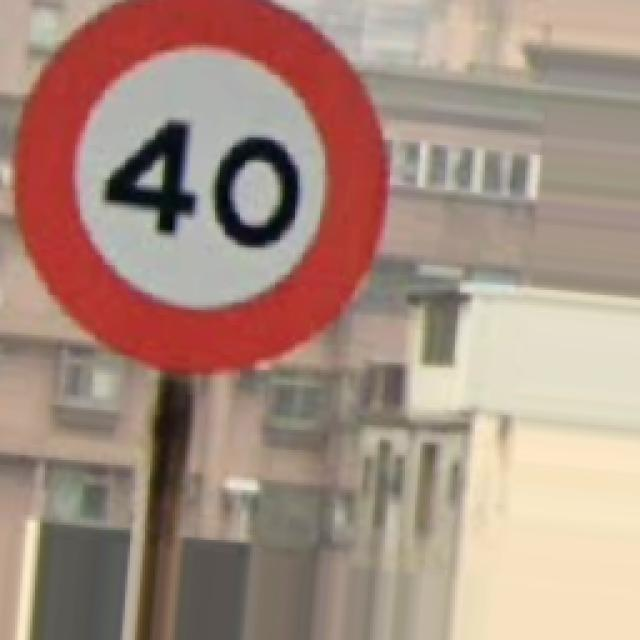Speed Limit -40-: (15, 2, 388, 370)
